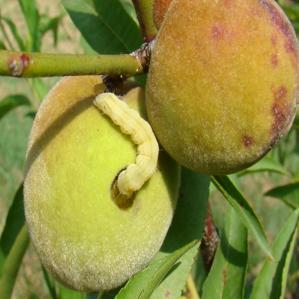Cotton bollworm: (83, 82, 174, 213)
